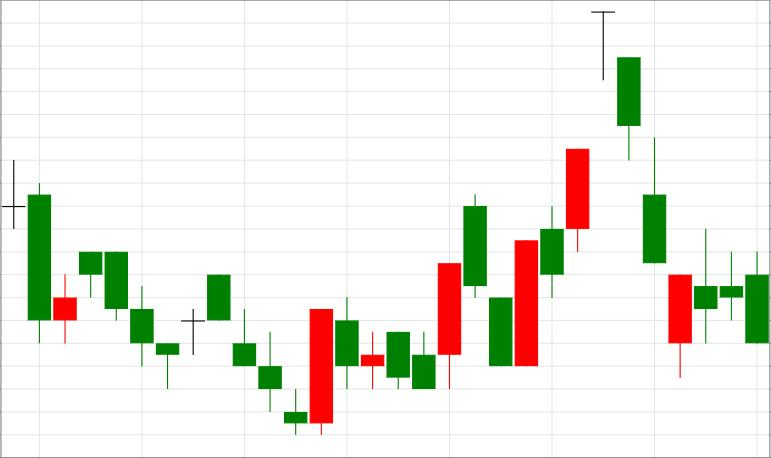bullish_engulfing_rise: (208, 274, 332, 436)
